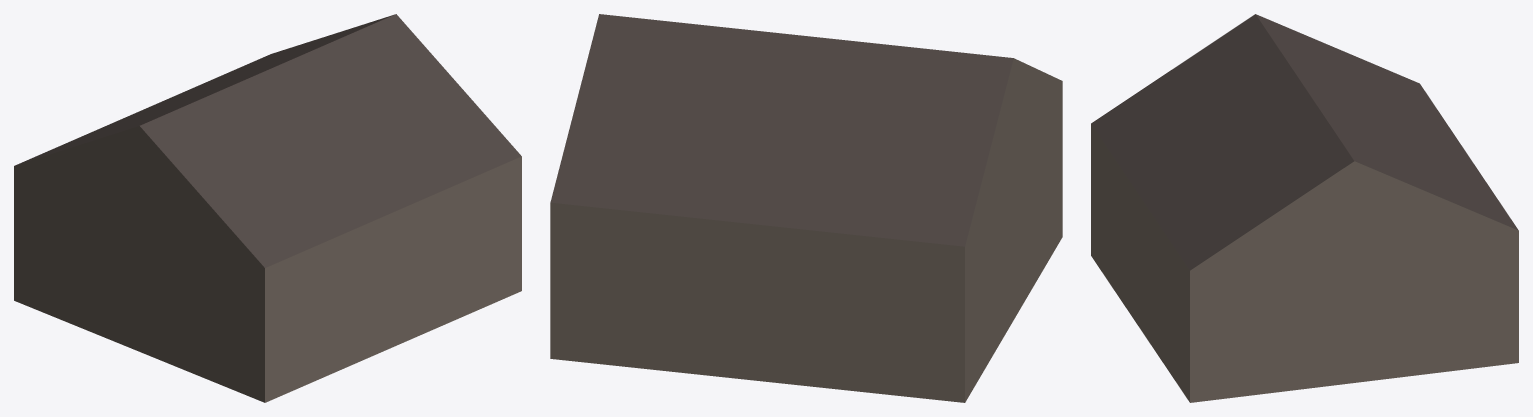
3 renders of one model, left to right at view 1: azimuth 30°, elevation 25°; view 2: azimuth 150°, elevation 25°; view 3: azimuth 270°, elevation 25°, orthographic. The views are drawn at different scales.
Visible parts, largest first — view 1: HP-w859457502; view 2: HP-w859457502; view 3: HP-w859457502.
Boxes of the visible parts, x1,y1,x2,y2 form: HP-w859457502: (14,14,521,402); HP-w859457502: (550,14,1062,402); HP-w859457502: (1091,14,1518,402).
Bounding box in the file's own units: 18.2 × 10.06 × 17.58.
